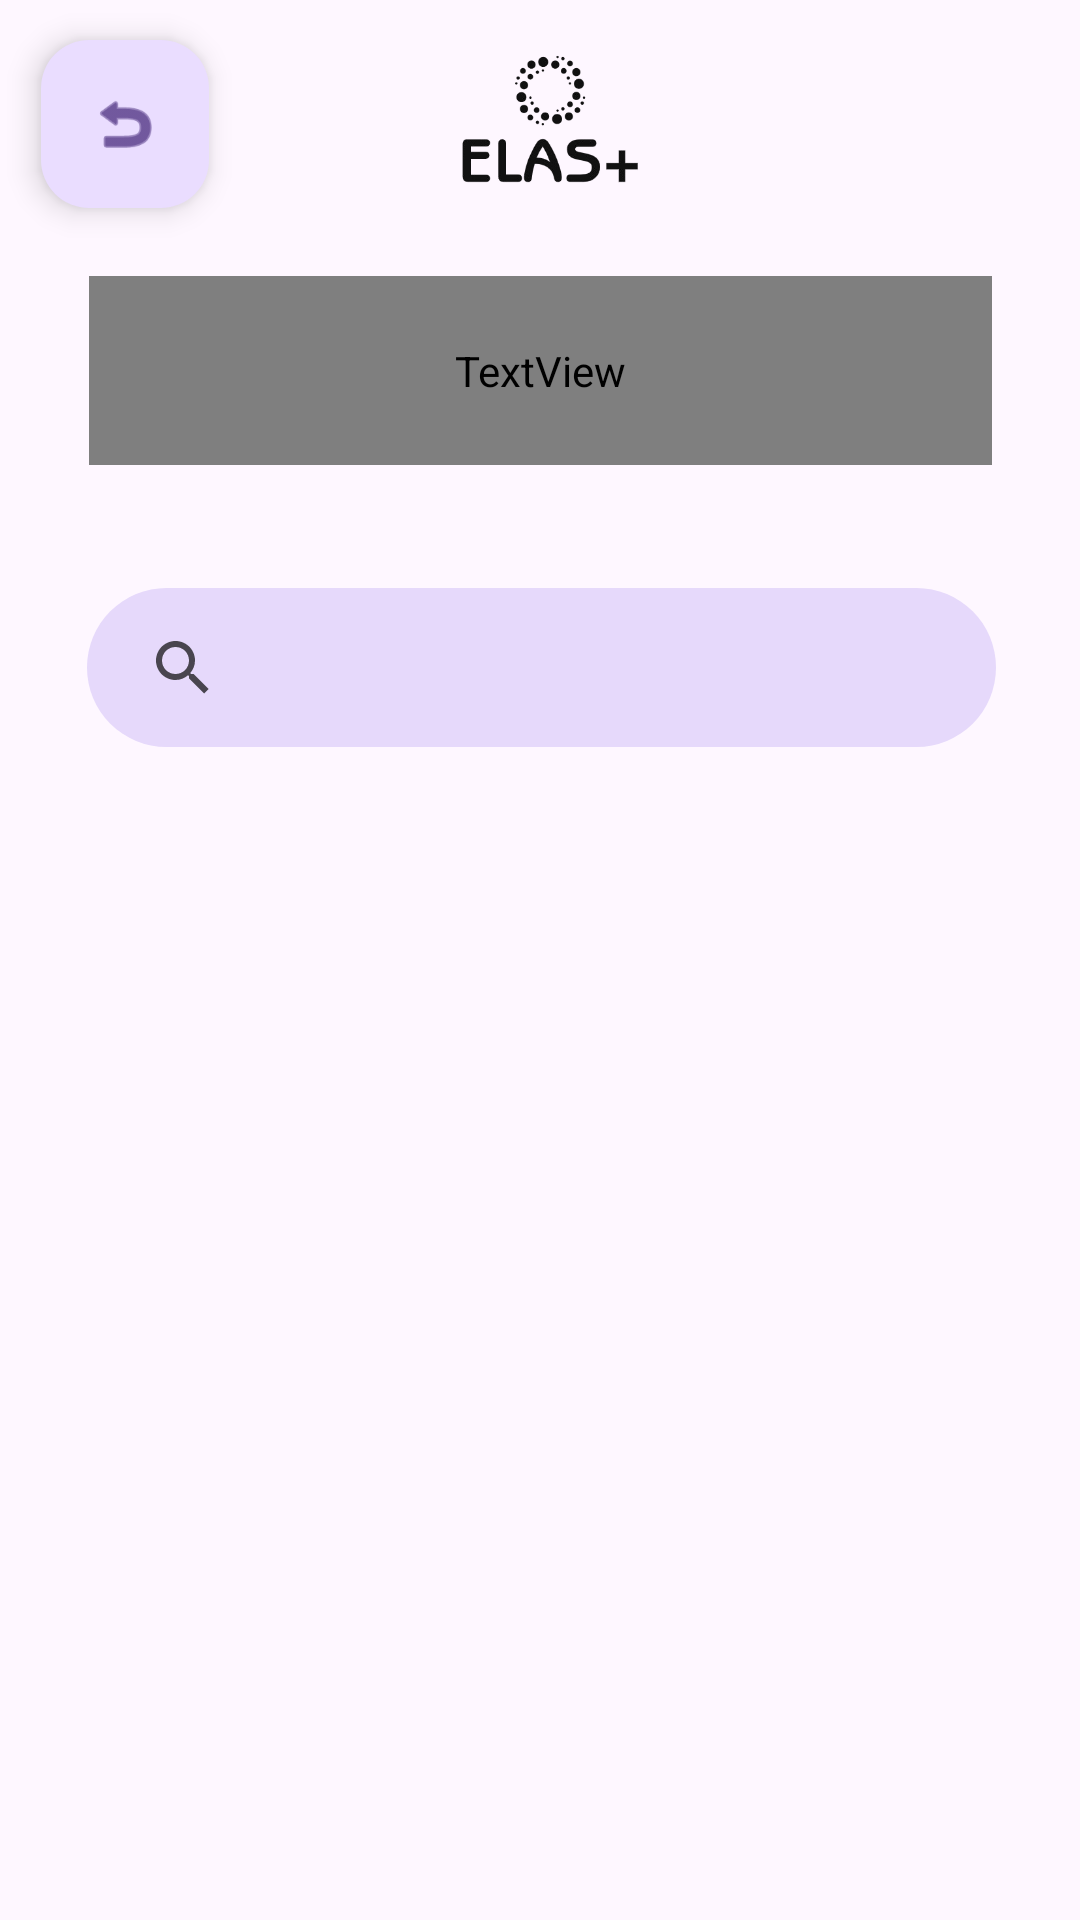

Point at icon controls on the screen. Image size 1080*1920, points as point (x, y).
revert: point (126, 124)
